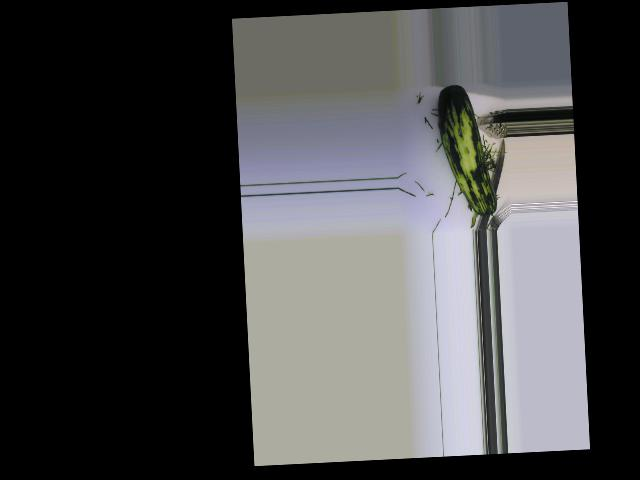cucumber: (436, 83, 497, 218)
